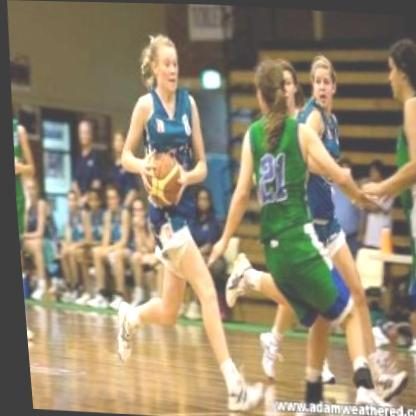basketball: (133, 148, 184, 211)
